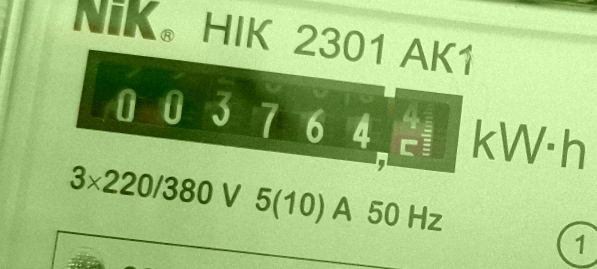0: (159, 85, 186, 127), (111, 84, 139, 124)
3: (207, 87, 234, 129)
4: (350, 109, 374, 150), (399, 97, 424, 131)
5: (395, 135, 420, 159)
6: (303, 104, 327, 145)
7: (254, 97, 282, 141)
screen: (59, 32, 480, 189)
